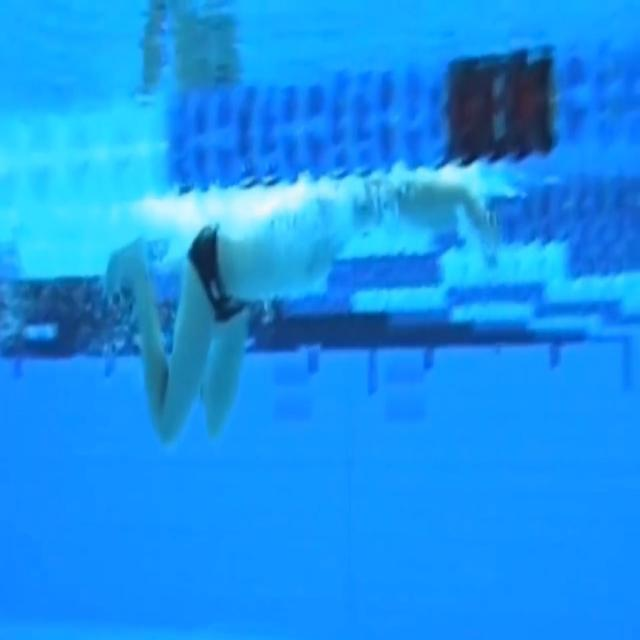Swimming: (103, 207, 376, 445)
